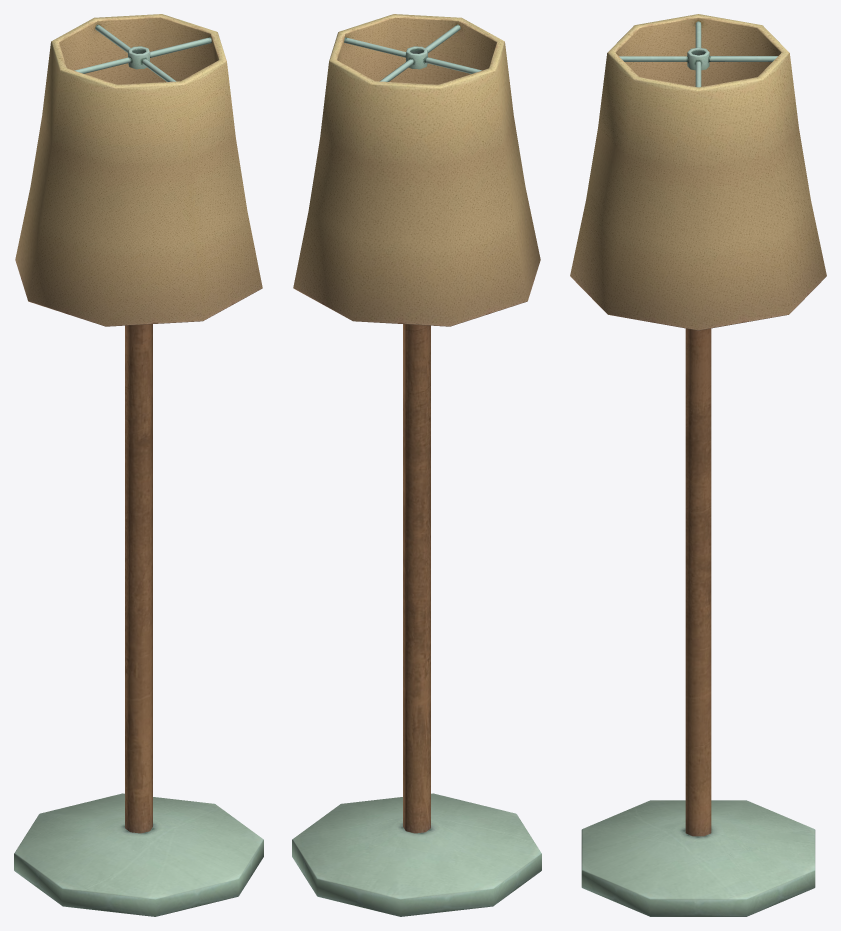
3 views of the same model, side by side, from view 1: azimuth 30°, elevation 25°; view 2: azimuth 150°, elevation 25°; view 3: azimuth 270°, elevation 25° (orthographic).
Parts seen in each view (by area): view 1: floor_lamp_low_Cylinder; view 2: floor_lamp_low_Cylinder; view 3: floor_lamp_low_Cylinder.
Boxes of the visible parts, left/top/right/bottom form: floor_lamp_low_Cylinder: left=14, top=14, right=263, bottom=916; floor_lamp_low_Cylinder: left=292, top=14, right=541, bottom=916; floor_lamp_low_Cylinder: left=570, top=14, right=826, bottom=916.
Size of the model in its own units: 0.5706 by 2 by 0.5706.
4 materials, 4 textured.
